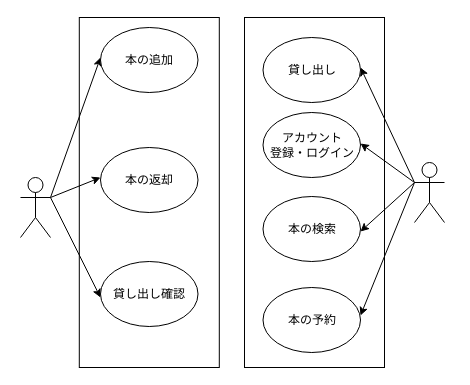
The diagram is 470 pixels wide and 385 high, and some of its shapes have lost their labels. Here are the shapes that lost their labels. From the top down, the centre of each, then its label:
At [35,207]: "管理者".
At [429,192]: "ユーザー".
